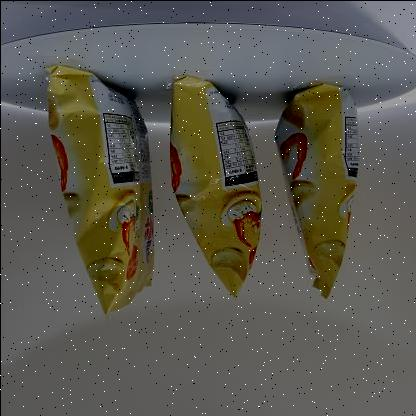Others: (30, 57, 370, 327)
